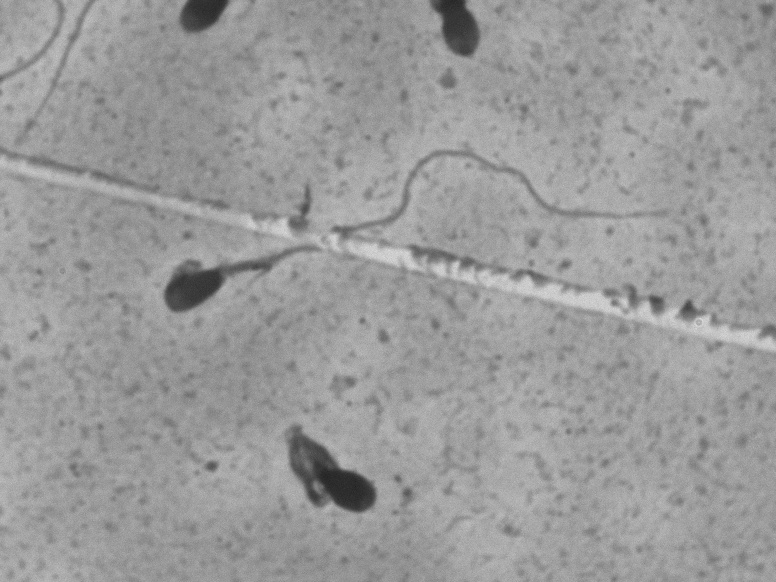Abnormal: (141, 150, 679, 362), (245, 406, 392, 542)
